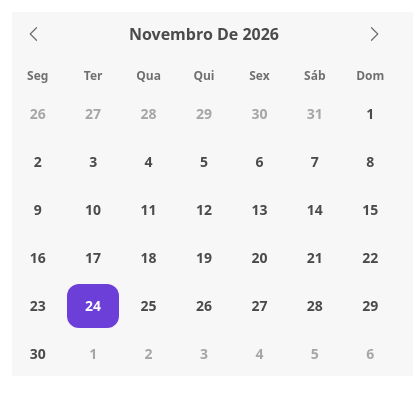
Test: CalendarPicker › deslizar para a esquerda vai para o próximo mês; para a direita, para o anterior
Press the mouse on the element named "novembro de 2026" at (204, 220), box top-left (12, 64), bottom-right (396, 376)
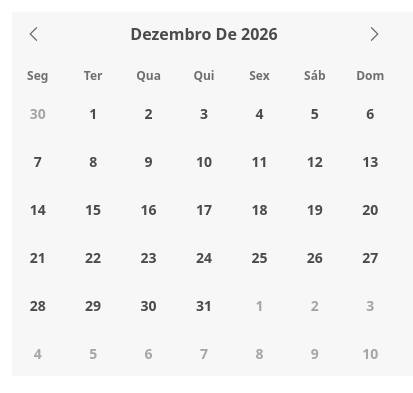
Check: the text "dezembro de 2026" is shown, box top-left (130, 22), bottom-right (278, 46)
Press the mouse on the element named "dezembro de 2026" at (204, 220), box top-left (12, 64), bottom-right (396, 376)
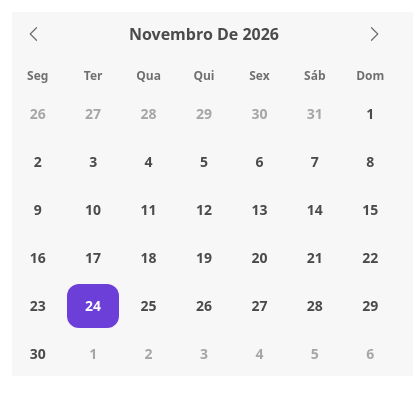
Press the mouse on the element named "novembro de 2026" at (204, 220), box top-left (12, 64), bottom-right (396, 376)
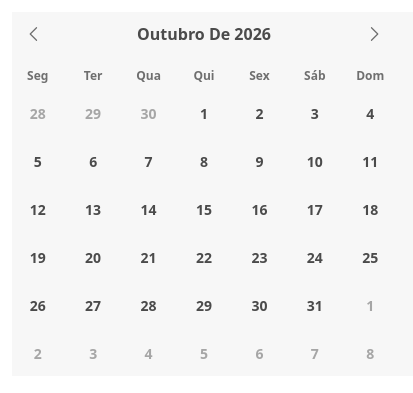
Check: the text "outubro de 2026" is shown, box top-left (137, 22), bottom-right (271, 46)
